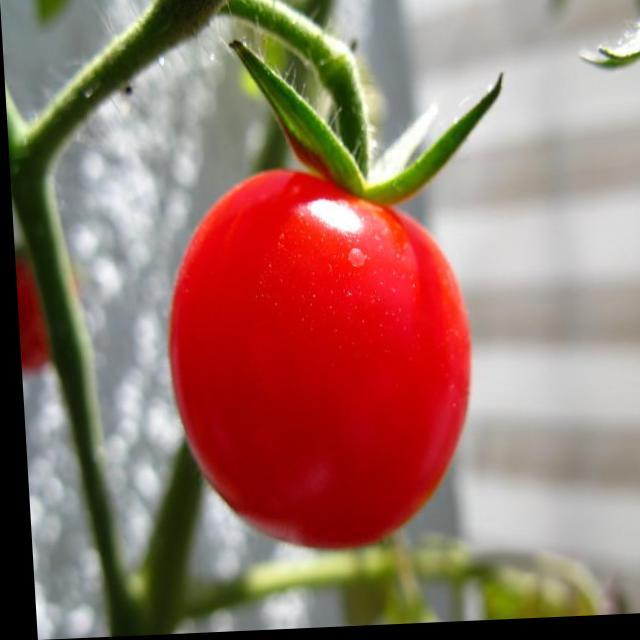kirmizi: (146, 152, 474, 557)
